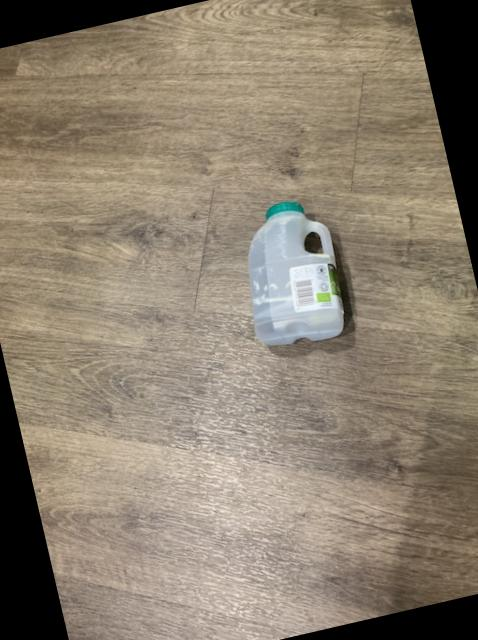plastic: (248, 199, 343, 342)
